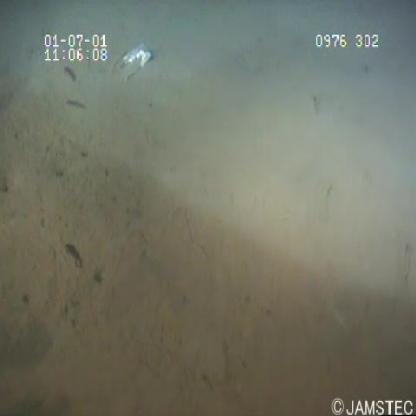Rác: (112, 37, 158, 92)
